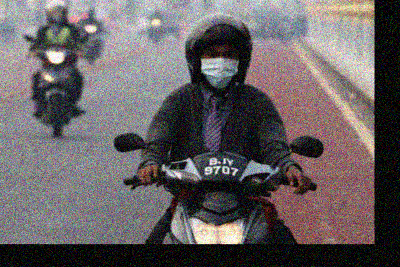with_mask: (201, 47, 239, 88)
